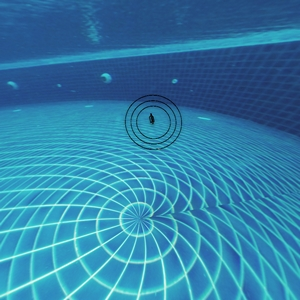circle: (115, 76, 191, 167)
submarine: (149, 114, 155, 122)
